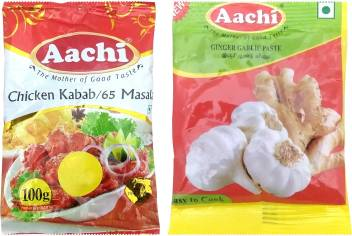VEG: (316, 1, 336, 19)
